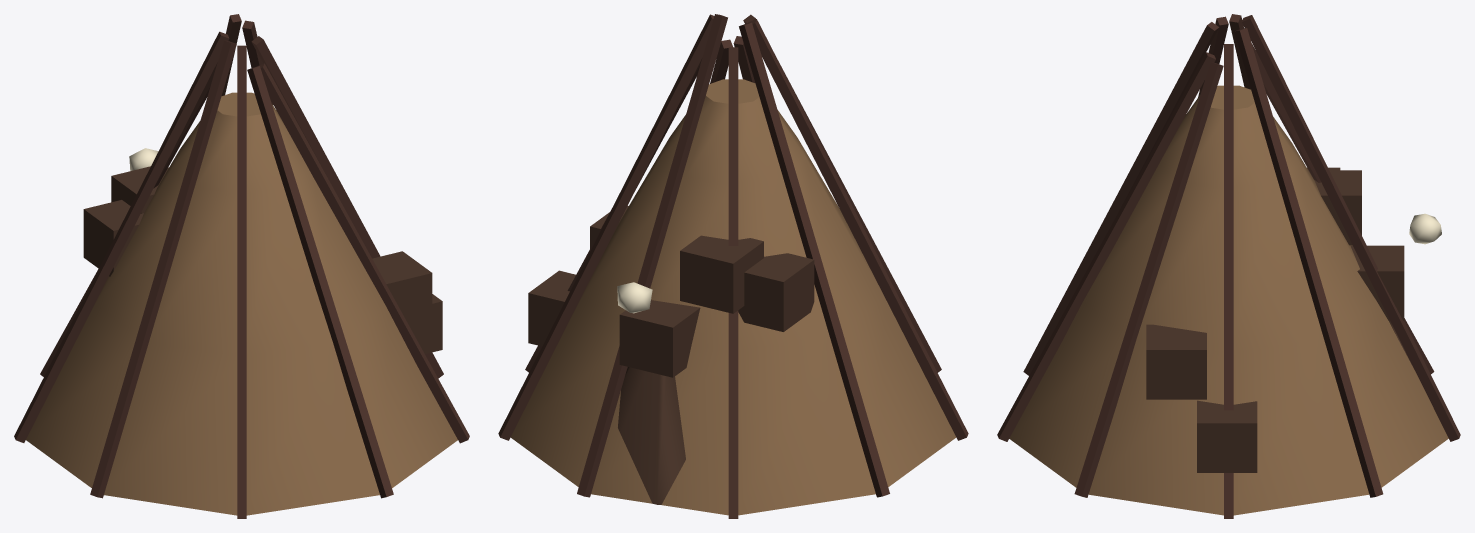
The model's file is goblin_hut.glb.
The picture shows the model from 3 angles, left to right: view 1: azimuth 30°, elevation 25°; view 2: azimuth 150°, elevation 25°; view 3: azimuth 270°, elevation 25°; orthographic projection. The views are drawn at different scales.
Parts seen in each view (by area): view 1: pole; view 2: pole; view 3: pole.
Part boxes in pixels (x1,y1,x2,y2): pole: (14, 14, 469, 518); pole: (498, 14, 968, 518); pole: (997, 14, 1460, 518).
Size of the model in its own units: 3.77 by 3.72 by 3.83.
